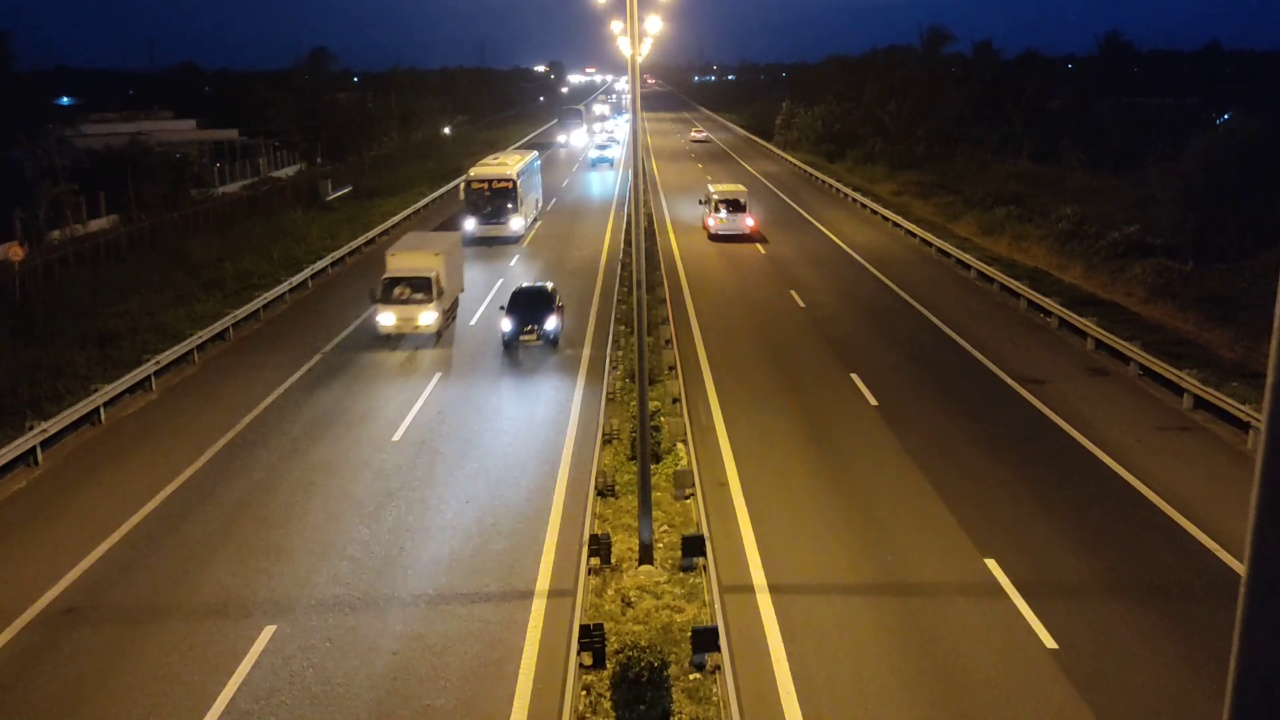bus: (463, 147, 543, 243)
car: (499, 281, 565, 348)
truck: (373, 229, 466, 343)
